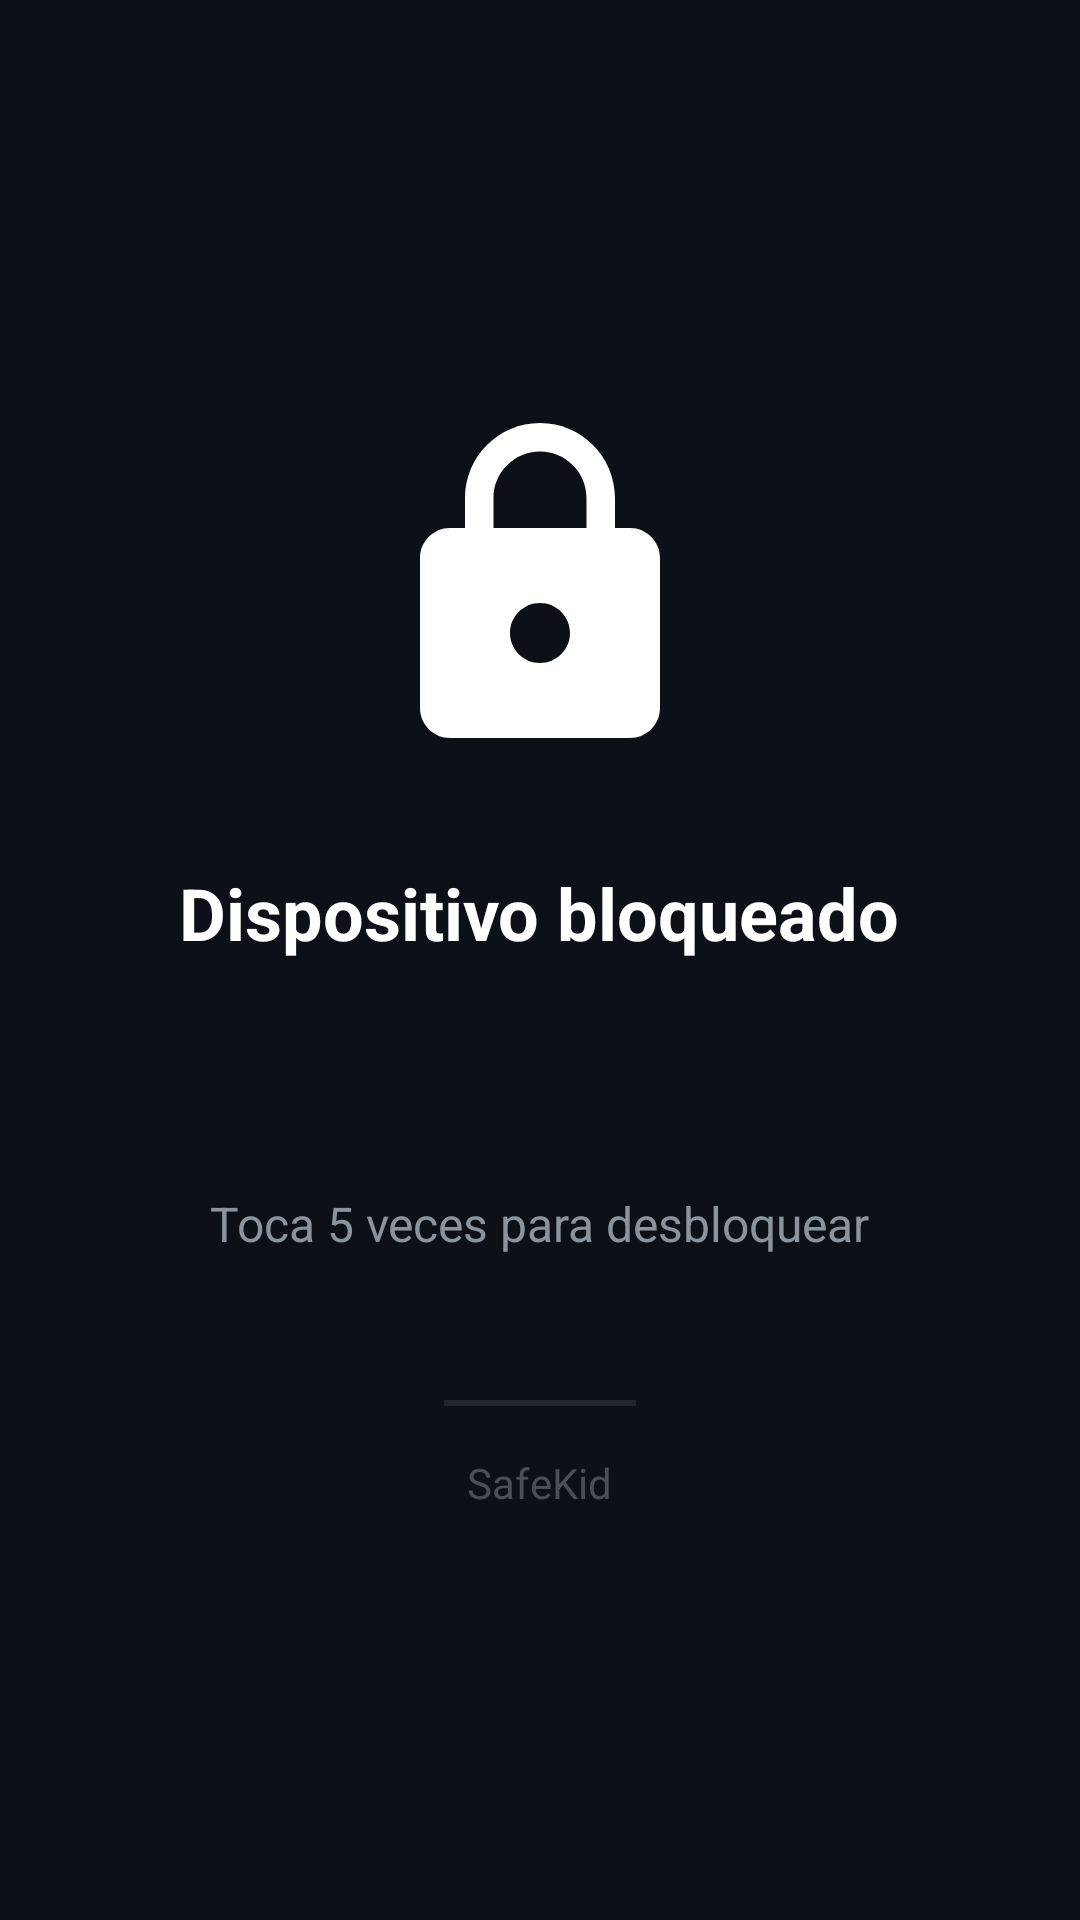

Named icons in this screenshot (1080 × 1920) and their bounding boxes, (x1, y1, x2, y2):
Icono de bloqueo: (420, 423, 660, 738)
